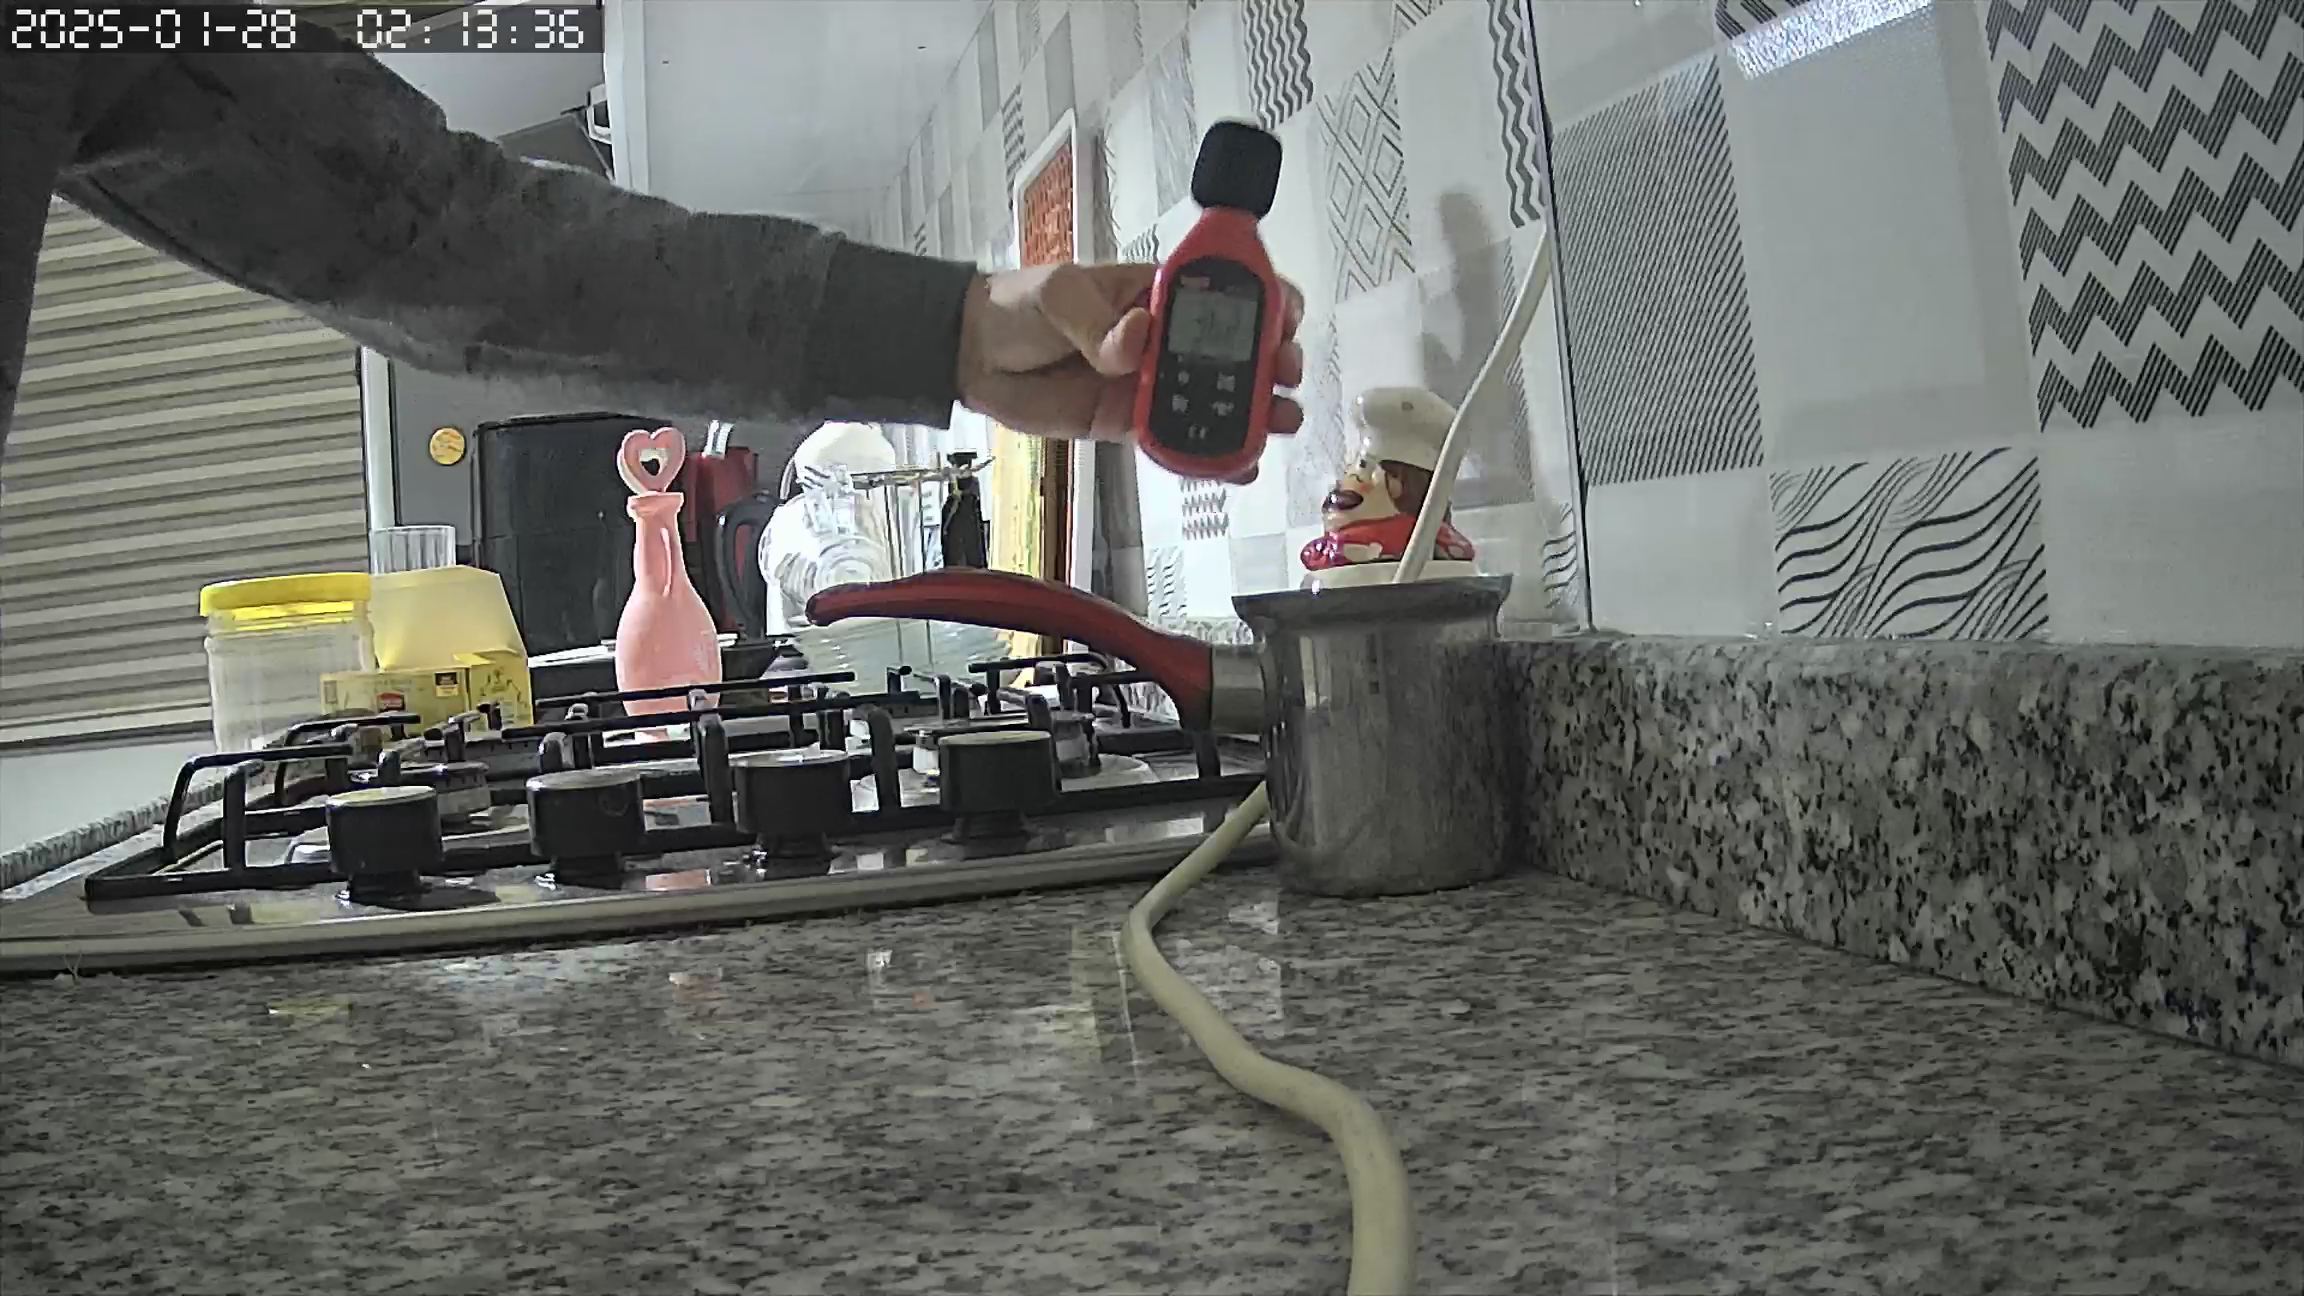screen: (1169, 286, 1256, 364)
